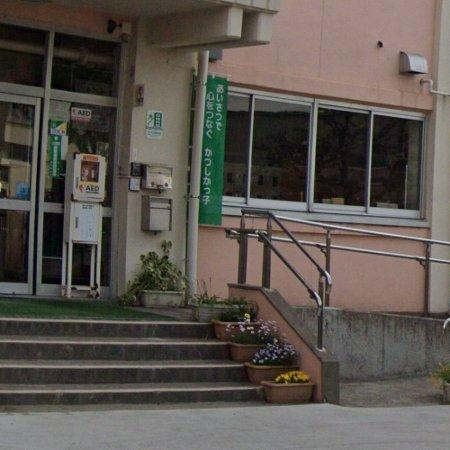stairs: (0, 319, 263, 405)
